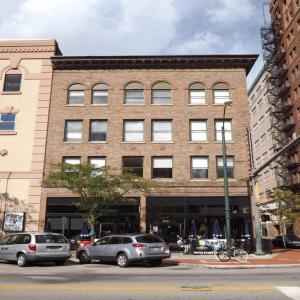Vehicle-registration-plate: (50, 248, 58, 252), (153, 248, 161, 252)
